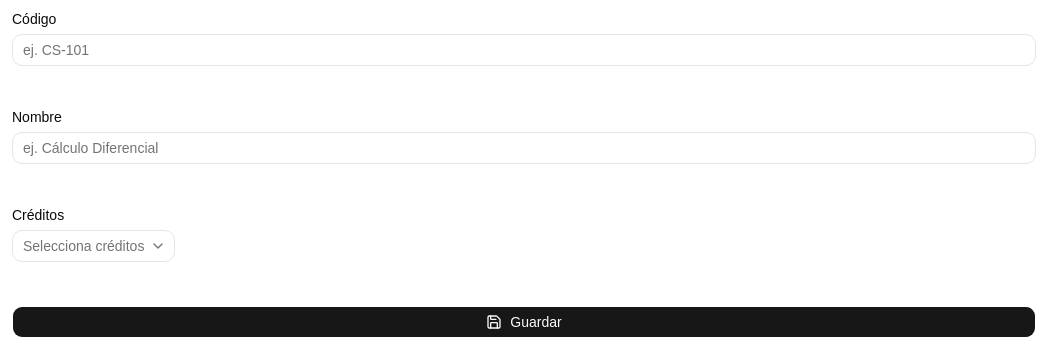
Test: CourseForm › shows inline error when credits is not selected on submit
This screenshot has width=1048, height=355.
Type "CS-101" into the field labelled "Código".
click(524, 50); type("CS-101")  # box 12,34 -> 1036,66
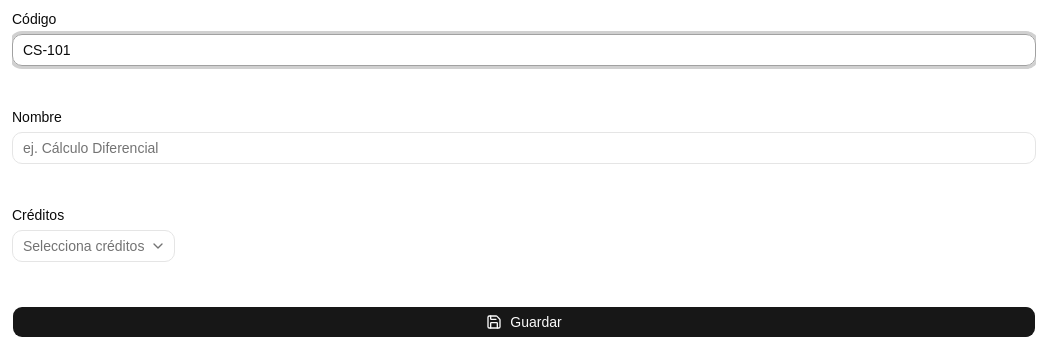
Type "Cálculo" into the field labelled "Nombre".
click(524, 148); type("Cálculo")  # box 12,132 -> 1036,164
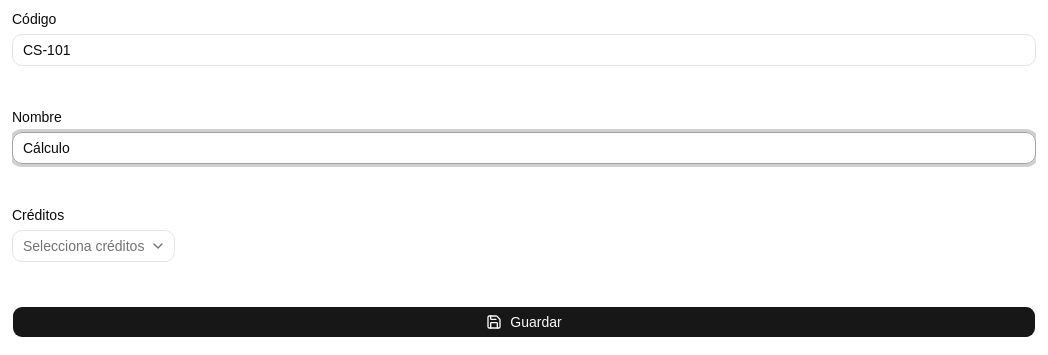
Click the button "Guardar".
click(524, 322)  # box 12,306 -> 1036,338
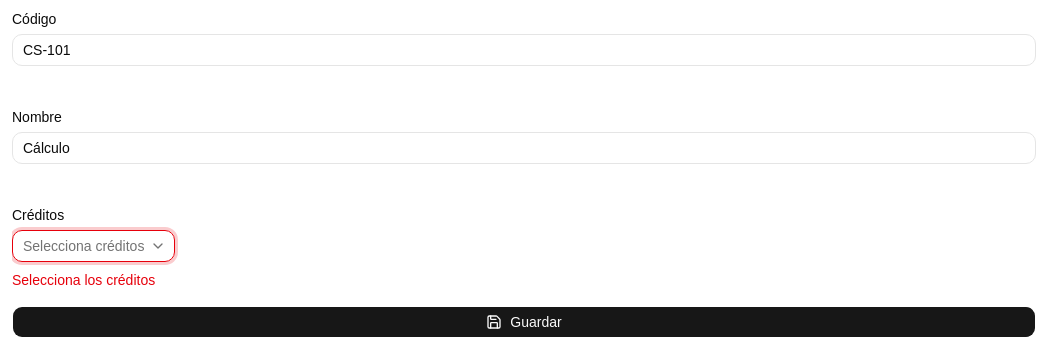
Expected: the text "Selecciona los créditos" is shown, 12,272 -> 155,288
